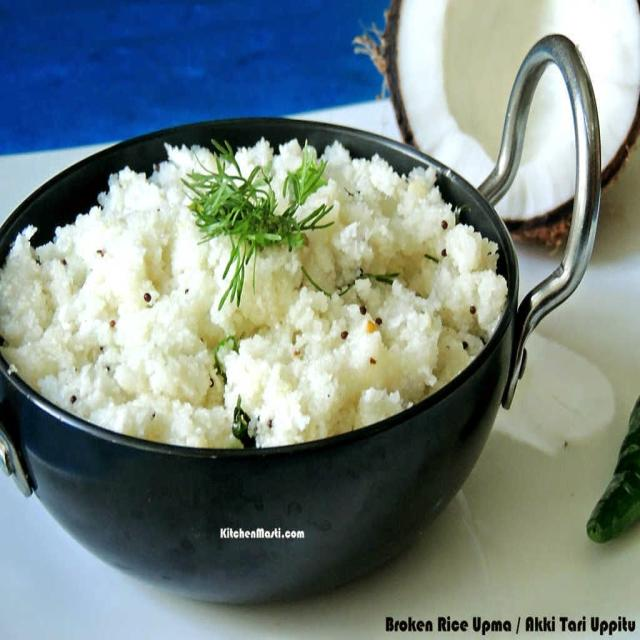upma: (0, 108, 521, 486)
